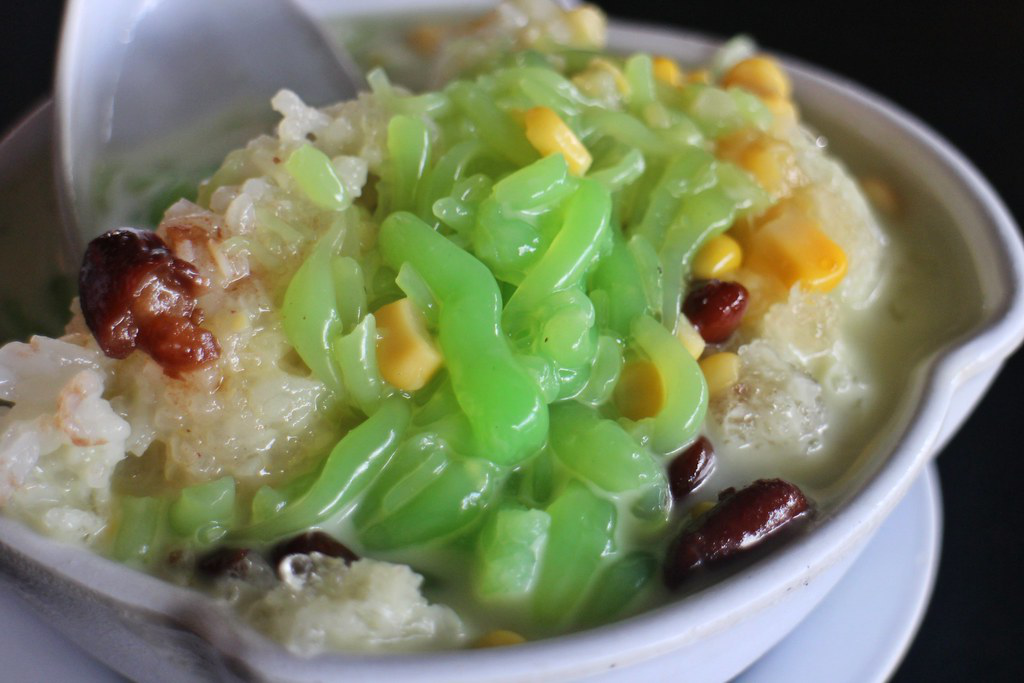Chendol: (40, 16, 937, 576)
